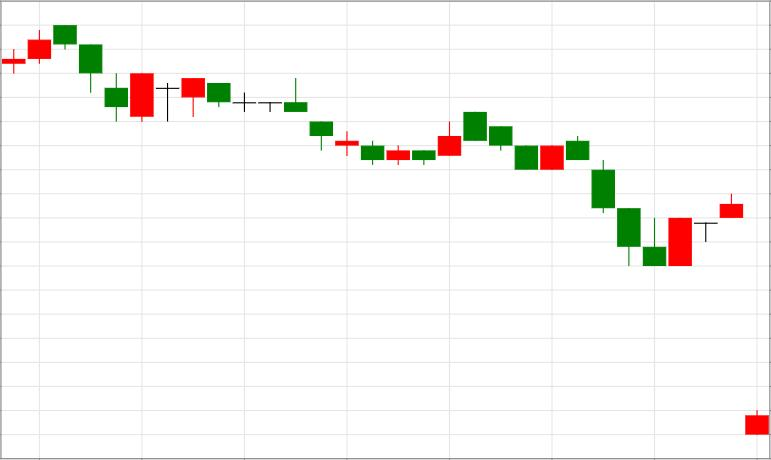bullish_engulfing_rise: (566, 136, 692, 266), (53, 24, 154, 122)
